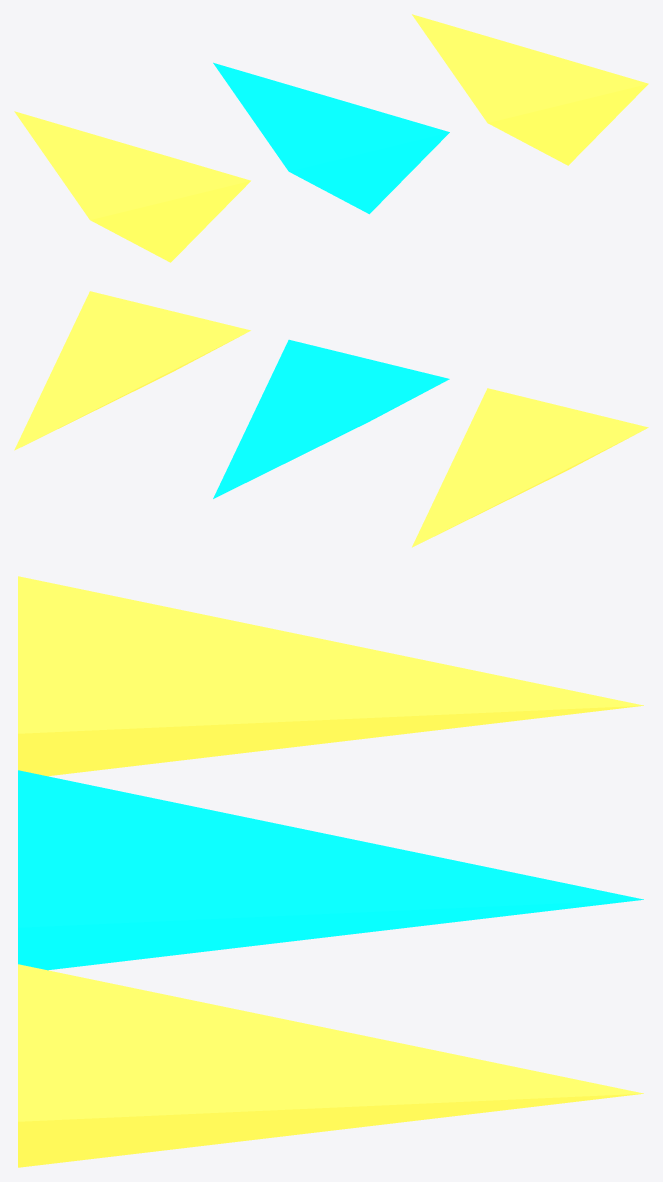
Rendered from tri_burst_cannon.glb.
3 views of the same model, one above another, from view 1: azimuth 30°, elevation 25°; view 2: azimuth 150°, elevation 25°; view 3: azimuth 270°, elevation 25° (orthographic). The views are drawn at different scales.
Visible parts, largest first — view 1: TriBurstBolt2, TriBurstBolt1, TriBurstBolt0; view 2: TriBurstBolt2, TriBurstBolt0, TriBurstBolt1; view 3: TriBurstBolt2, TriBurstBolt1, TriBurstBolt0.
Boxes of the visible parts, <box> form: TriBurstBolt2: <box>412,14,648,165</box>; TriBurstBolt1: <box>213,62,449,214</box>; TriBurstBolt0: <box>14,111,250,262</box>; TriBurstBolt2: <box>14,291,250,450</box>; TriBurstBolt0: <box>412,388,648,547</box>; TriBurstBolt1: <box>213,339,449,498</box>; TriBurstBolt2: <box>18,964,643,1167</box>; TriBurstBolt1: <box>18,770,643,970</box>; TriBurstBolt0: <box>18,576,643,776</box>.
Size of the model in its own units: 1.01 by 0.1075 by 0.4894.
